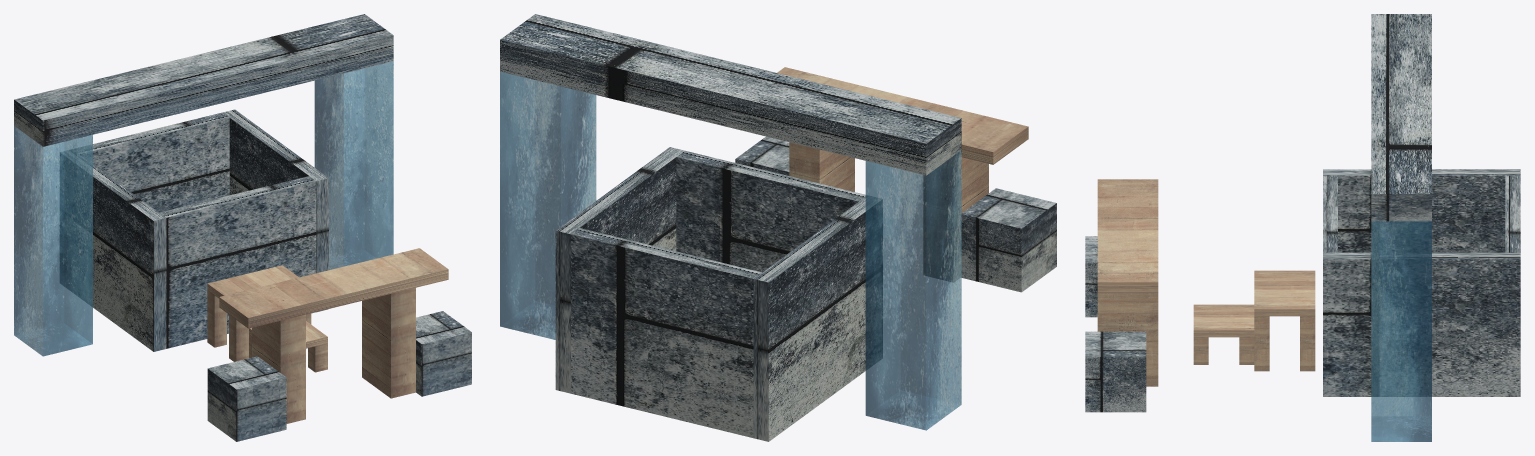
Rendered from Pot.glb.
3 renders of one model, left to right at view 1: azimuth 30°, elevation 25°; view 2: azimuth 150°, elevation 25°; view 3: azimuth 270°, elevation 25°, orthographic. The views are drawn at different scales.
Visible parts, largest first — view 1: Cube.016, Cube.015, Cube.010, Cube.013, Cube.014, Cube.012, Cube.026, Cube.029, Cube.011, Cube.017, Cube.028, Cube.396 (+4 smaller); view 2: Cube.012, Cube.016, Cube.015, Cube.013, Cube.014, Cube.010, Cube.011, Cube.029, Cube.396, Cube.026, Cube.017, Cube.028; view 3: Cube.011, Cube.014, Cube.016, Cube.013, Cube.026, Cube.028, Cube.017, Cube.005, Cube.004, Cube.012, Cube.010, Cube.029 (+4 smaller).
Part boxes in pixels (<box>): Cube.016: <box>14,14,393,146</box>; Cube.015: <box>14,126,92,356</box>; Cube.010: <box>159,176,316,348</box>; Cube.013: <box>60,149,166,351</box>; Cube.014: <box>314,61,393,269</box>; Cube.012: <box>73,112,229,212</box>; Cube.026: <box>219,248,448,328</box>; Cube.029: <box>207,356,286,441</box>; Cube.011: <box>223,109,328,312</box>; Cube.017: <box>362,288,415,398</box>; Cube.028: <box>416,311,471,396</box>; Cube.396: <box>252,314,305,423</box>; Cube.012: <box>571,228,761,438</box>; Cube.016: <box>500,14,961,175</box>; Cube.015: <box>865,150,961,430</box>; Cube.013: <box>753,196,882,441</box>; Cube.014: <box>500,71,596,339</box>; Cube.010: <box>676,150,866,272</box>; Cube.011: <box>555,147,684,393</box>; Cube.029: <box>961,188,1056,292</box>; Cube.396: <box>923,156,988,282</box>; Cube.026: <box>777,67,1028,164</box>; Cube.017: <box>789,142,854,191</box>; Cube.028: <box>735,136,789,175</box>; Cube.011: <box>1323,252,1520,396</box>; Cube.014: <box>1371,221,1431,441</box>; Cube.016: <box>1371,14,1431,221</box>; Cube.013: <box>1323,169,1520,252</box>; Cube.026: <box>1097,179,1158,293</box>; Cube.028: <box>1085,331,1146,412</box>; Cube.017: <box>1097,293,1158,386</box>; Cube.005: <box>1254,270,1315,316</box>; Cube.004: <box>1193,304,1254,337</box>; Cube.012: <box>1505,175,1520,252</box>; Cube.010: <box>1323,175,1337,252</box>; Cube.029: <box>1085,236,1097,317</box>.
Bounding box in the file's own units: 7 × 4.5 × 7.15.
Materials: 3 (3 with a texture image).
